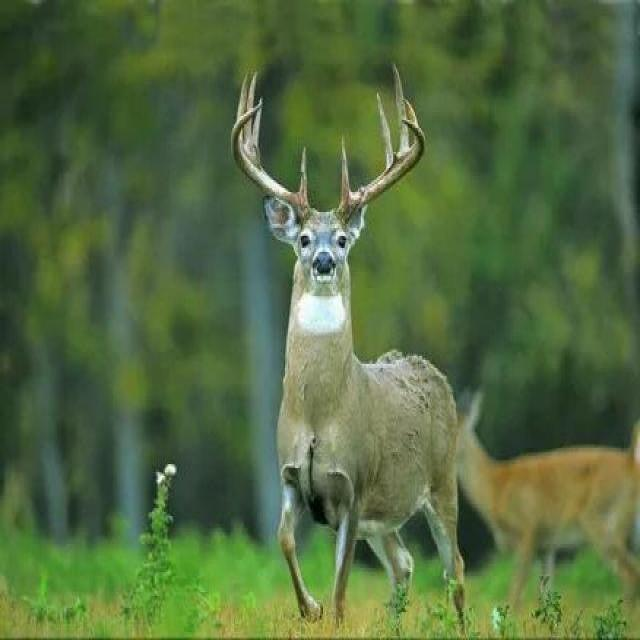deer: (208, 98, 502, 546)
